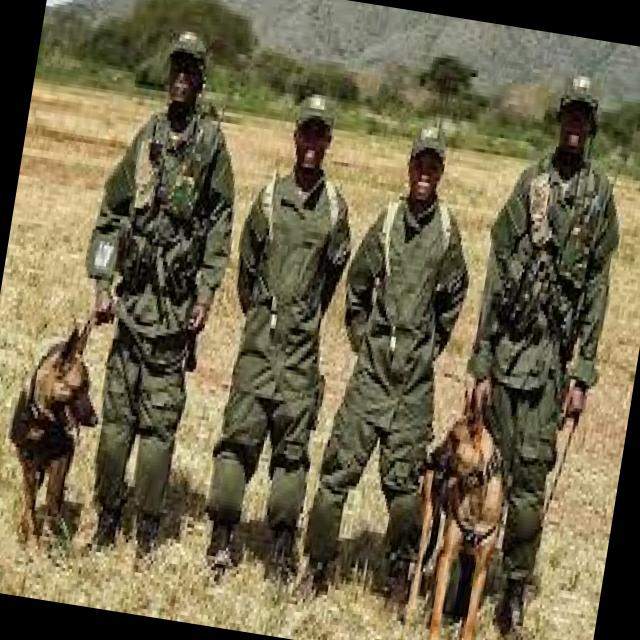dog: (0, 296, 100, 527)
ranger: (434, 48, 622, 590), (184, 64, 356, 586), (78, 0, 246, 511), (322, 82, 479, 583)
